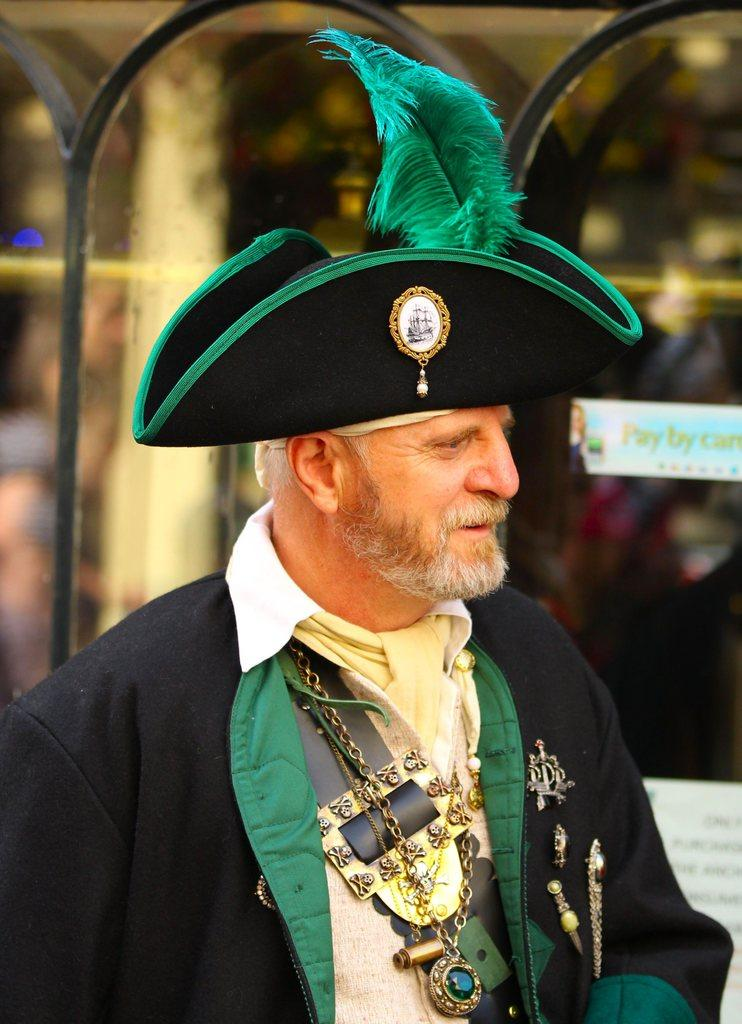Hat: (128, 20, 639, 448)
